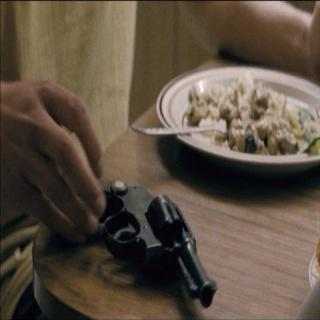gun: (7, 63, 229, 313)
